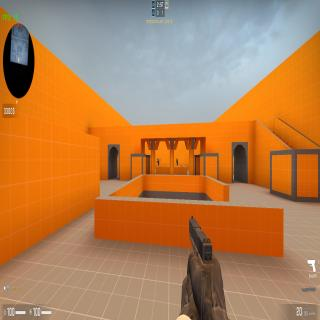CT-Body: (176, 158, 178, 166), (157, 158, 159, 166)
CT-Head: (176, 158, 178, 161), (158, 158, 158, 161)
